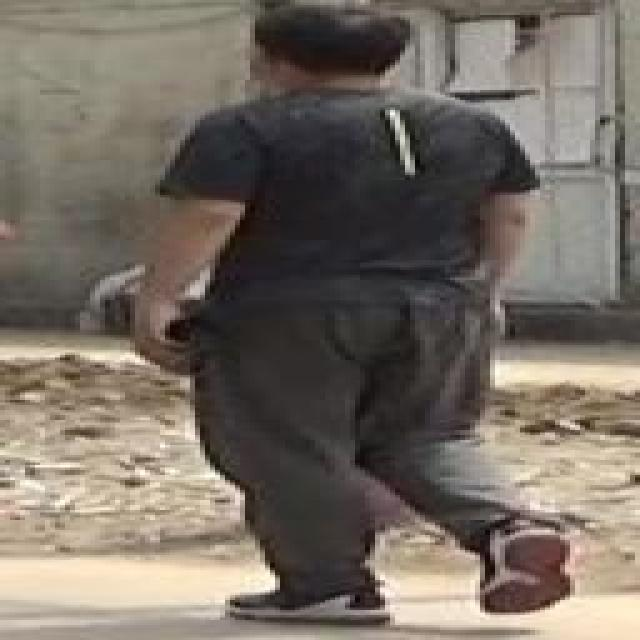adult: (115, 6, 600, 640)
